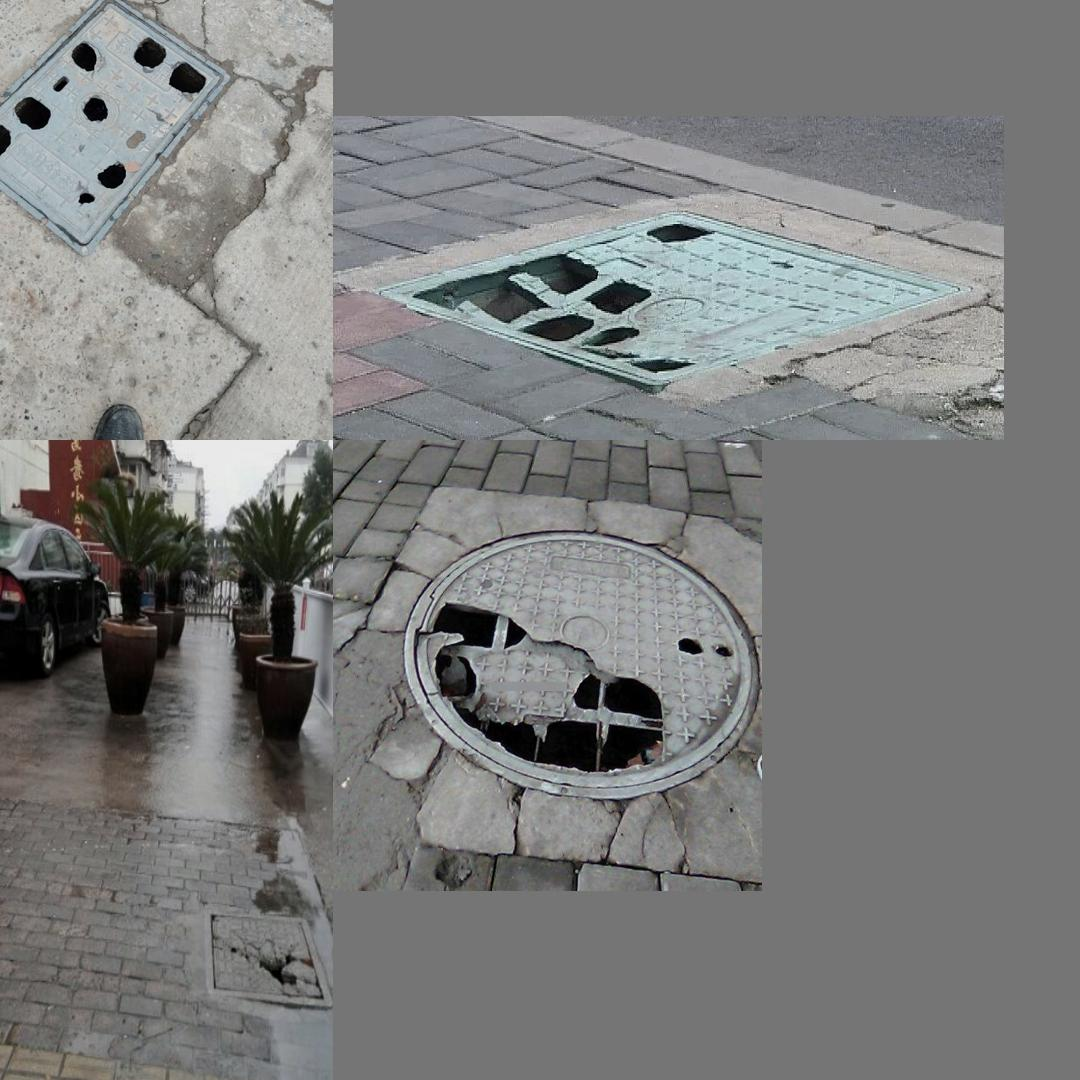broke: (373, 194, 970, 395), (402, 531, 758, 799), (0, 0, 233, 255), (205, 909, 330, 1009)
